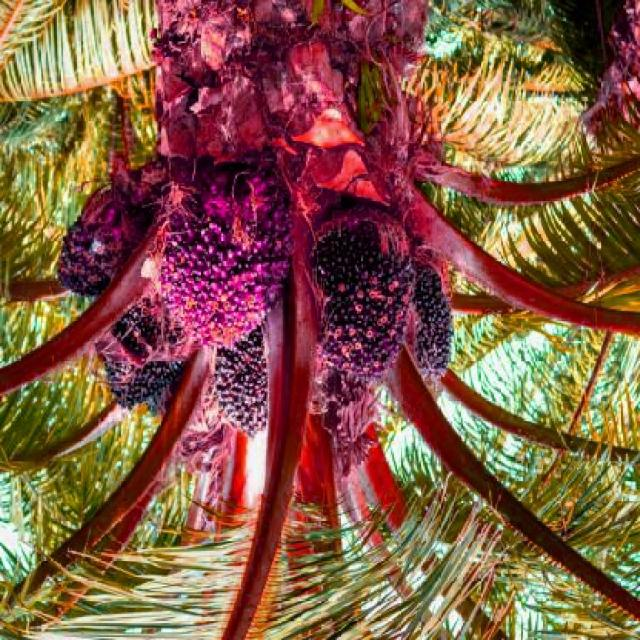palm-oil: (166, 167, 269, 335), (308, 208, 406, 372), (59, 190, 148, 288), (99, 320, 194, 408), (386, 260, 457, 372), (219, 332, 281, 434)
